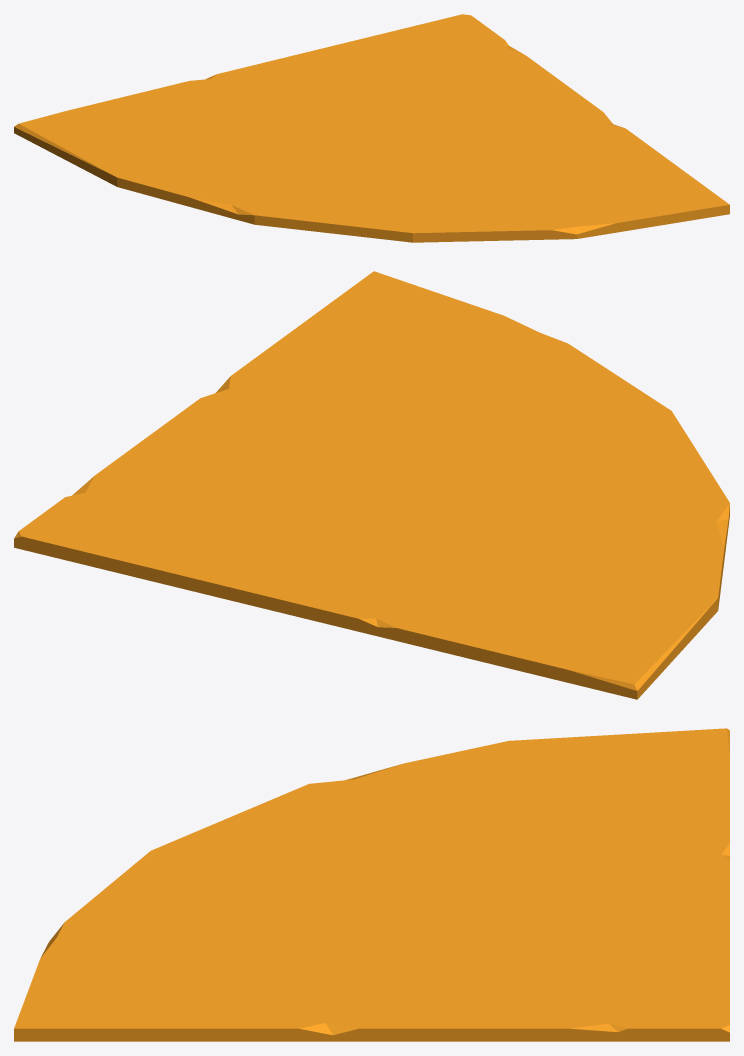
Rendered from SM_Buildings_FloorCurved_5x5_01P.fbx.
3 views of the same model, one above another, from view 1: azimuth 30°, elevation 25°; view 2: azimuth 150°, elevation 25°; view 3: azimuth 270°, elevation 25° (orthographic). The views are drawn at different scales.
Parts seen in each view (by area): view 1: SM_Buildings_FloorCurved_5x5_01P; view 2: SM_Buildings_FloorCurved_5x5_01P; view 3: SM_Buildings_FloorCurved_5x5_01P.
Boxes of the visible parts, x1,y1,x2,y2 form: SM_Buildings_FloorCurved_5x5_01P: (14, 14, 729, 242); SM_Buildings_FloorCurved_5x5_01P: (14, 271, 729, 699); SM_Buildings_FloorCurved_5x5_01P: (14, 728, 729, 1041).
Bounding box in the file's own units: 500 × 10 × 500.
